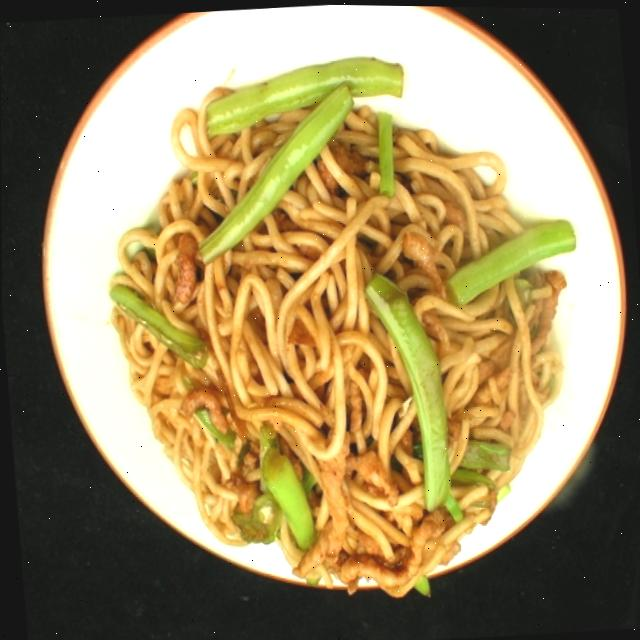面条主食: (34, 0, 632, 636)
